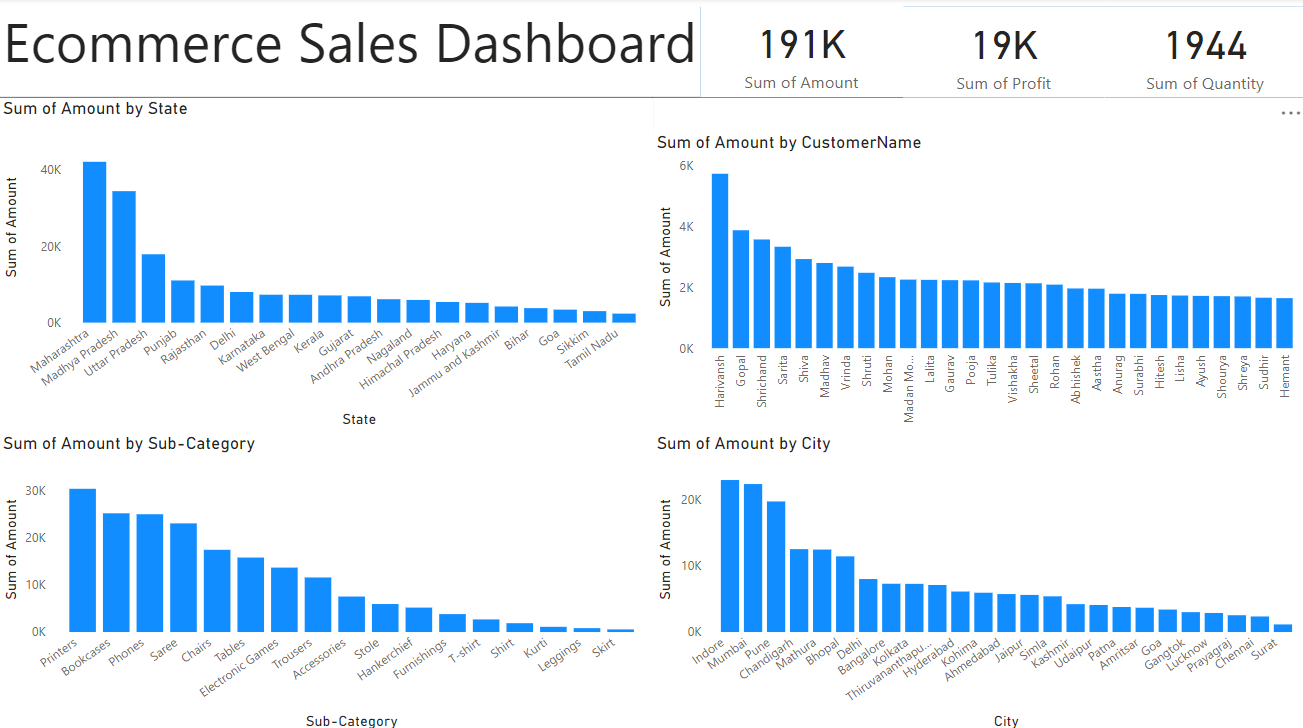

What the dashboard file says about the page in this screenshot:
{"tool":"powerbi","page":{"name":"Page 1","canvas":[1280,720],"ordinal":0},"visuals":[{"type":"shape","box":[0,0,1280.3,96.1],"z":0},{"type":"shape","box":[0,96.1,640.8,329.3],"z":1000},{"type":"shape","box":[639.5,96.1,640.8,329.3],"z":2000},{"type":"shape","box":[0,425.4,639.5,295],"z":3000},{"type":"shape","box":[640.8,425.4,639.5,295],"z":4000},{"type":"textbox","box":[0,0,1280.3,96.1],"z":5000},{"type":"shape","box":[1082.7,8.2,197.6,87.8],"z":6000},{"type":"shape","box":[885.1,8.2,197.6,87.8],"z":7000},{"type":"shape","box":[687.5,8.2,197.6,87.8],"z":8000},{"type":"card","fields":{"Values":["measures calculations.Sum of Quantity"]},"box":[1082.7,8.2,197.6,89.2],"z":9000},{"type":"card","fields":{"Values":["measures calculations.Sum of Profit"]},"box":[885.1,8.2,197.6,89.2],"z":10000},{"type":"card","fields":{"Values":["measures calculations.Sum of Amount"]},"box":[687.2,7.3,198.1,89.3],"z":11000},{"type":"clusteredColumnChart","fields":{"Y":["measures calculations.Sum of Amount"],"Category":["Orders and Details.State"]},"box":[0,97.8,640.8,327.7],"z":12000},{"type":"clusteredColumnChart","fields":{"Y":["measures calculations.Sum of Amount"],"Category":["Orders and Details.CustomerName"]},"box":[639.5,130.8,640.8,327.7],"z":13000},{"type":"clusteredColumnChart","fields":{"Y":["measures calculations.Sum of Amount"],"Category":["Orders and Details.Sub-Category"]},"box":[0,425.5,640.8,294.7],"z":14000},{"type":"clusteredColumnChart","fields":{"Y":["measures calculations.Sum of Amount"],"Category":["Orders and Details.City"]},"box":[639.5,425.5,640.8,294.7],"z":15000}]}

Visuals, with their boxes in screenshot pixels (x1, y1, x2, y2), scaled from the page's 1280x720 canvas onto the 1303x728 screenshot:
shape: (0,0,1302,97)
shape: (0,97,652,430)
shape: (651,97,1302,430)
shape: (0,430,651,727)
shape: (652,430,1302,727)
textbox: (0,0,1302,97)
shape: (1102,8,1302,97)
shape: (901,8,1102,97)
shape: (700,8,901,97)
card - measures calculations.Sum of Quantity: (1102,8,1302,98)
card - measures calculations.Sum of Profit: (901,8,1102,98)
card - measures calculations.Sum of Amount: (700,7,901,98)
clusteredColumnChart - measures calculations.Sum of Amount x Orders and Details.State: (0,99,652,430)
clusteredColumnChart - measures calculations.Sum of Amount x Orders and Details.CustomerName: (651,132,1302,464)
clusteredColumnChart - measures calculations.Sum of Amount x Orders and Details.Sub-Category: (0,430,652,727)
clusteredColumnChart - measures calculations.Sum of Amount x Orders and Details.City: (651,430,1302,727)
